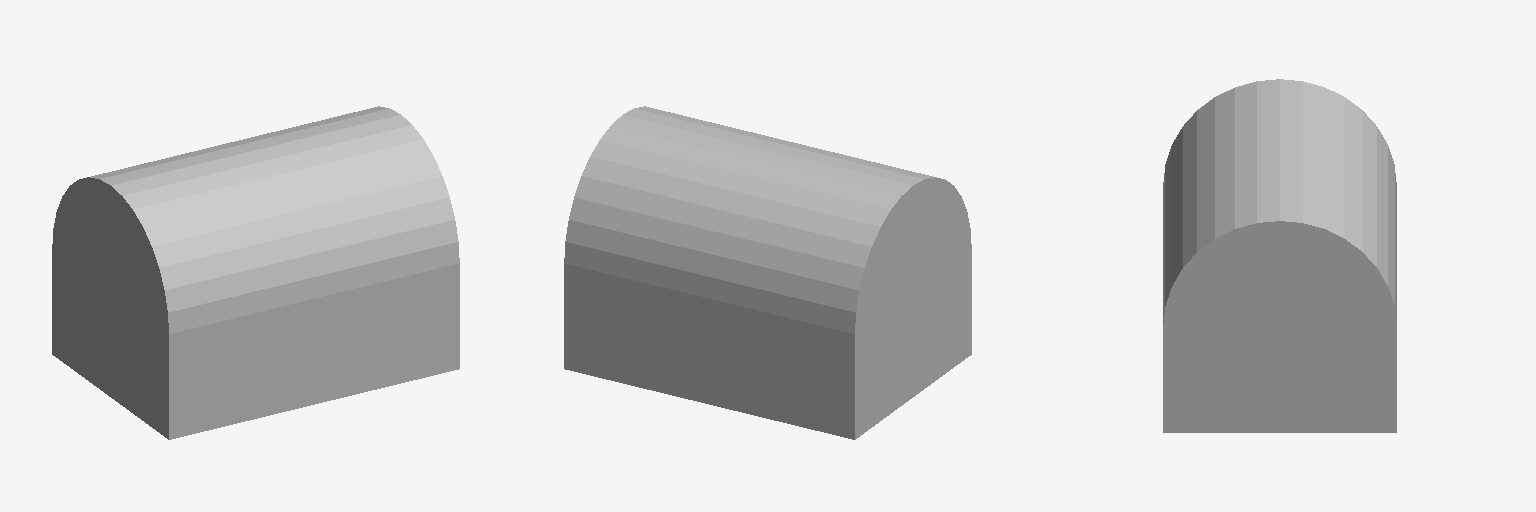
Rendered from chest_large.obj.
3 renders of one model, left to right at view 1: azimuth 30°, elevation 25°; view 2: azimuth 150°, elevation 25°; view 3: azimuth 270°, elevation 25°, orthographic.
Visible parts, largest first — view 1: Cylinder; view 2: Cylinder; view 3: Cylinder.
Boxes of the visible parts, <box> form: Cylinder: <box>52,106,459,439</box>; Cylinder: <box>564,106,971,439</box>; Cylinder: <box>1163,79,1396,432</box>.
Bounding box in the file's own units: 1.99 × 1.39 × 1.39.